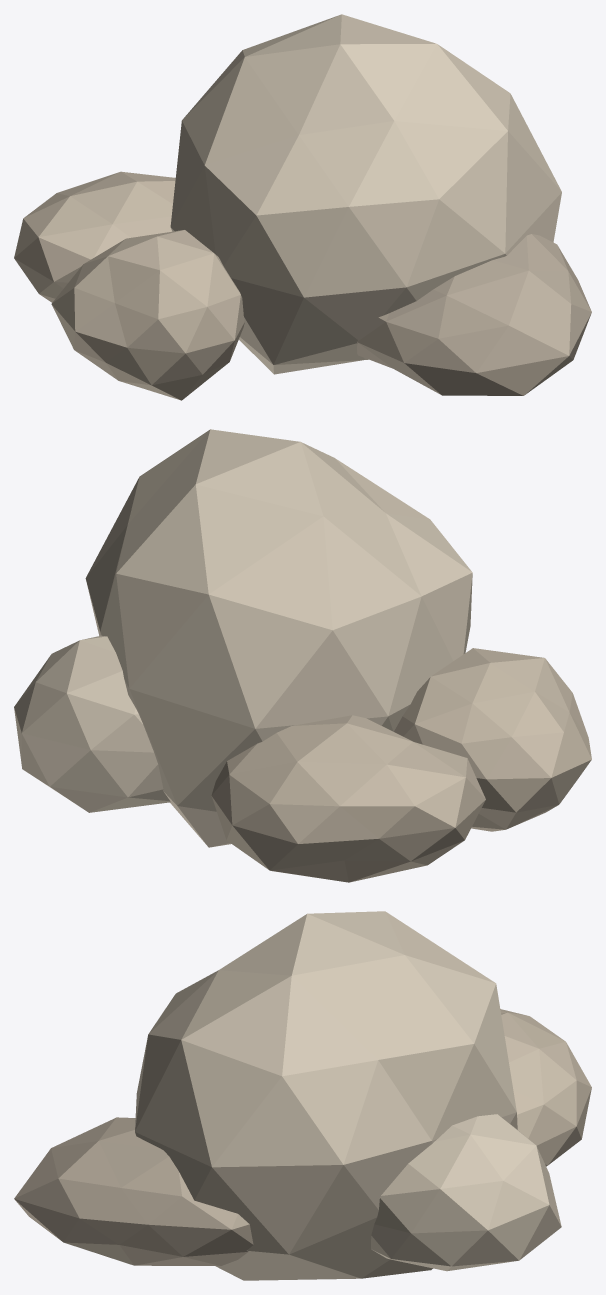
File: campo_rock_cluster_2.glb
3 views of the same model, one above another, from view 1: azimuth 30°, elevation 25°; view 2: azimuth 150°, elevation 25°; view 3: azimuth 270°, elevation 25° (orthographic). The views are drawn at different scales.
Visible parts, largest first — view 1: campo_rock_cluster_2.glb; view 2: campo_rock_cluster_2.glb; view 3: campo_rock_cluster_2.glb.
Boxes of the visible parts, x1,y1,x2,y2 form: campo_rock_cluster_2.glb: (14, 14, 591, 400); campo_rock_cluster_2.glb: (14, 429, 591, 882); campo_rock_cluster_2.glb: (14, 911, 591, 1280).
Bounding box in the file's own units: 2.35 × 1.68 × 2.55.
